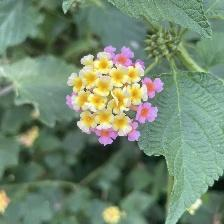common lanthana: (66, 45, 170, 154)
